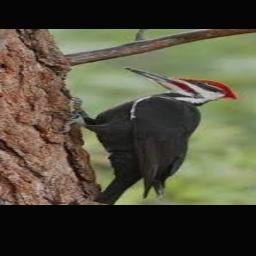Woodpecker: (49, 67, 238, 204)
